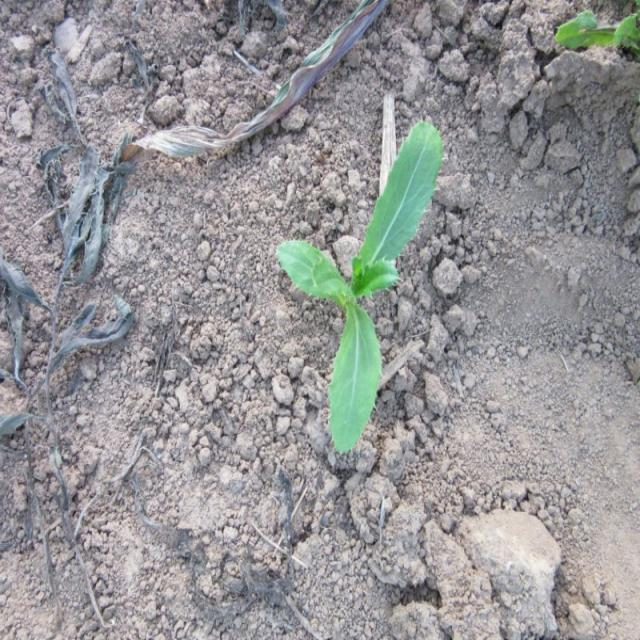cs: (276, 120, 445, 464)
